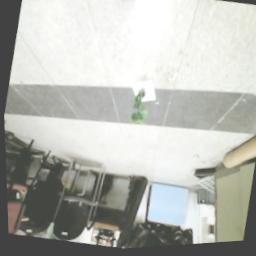herb: (127, 88, 152, 131)
